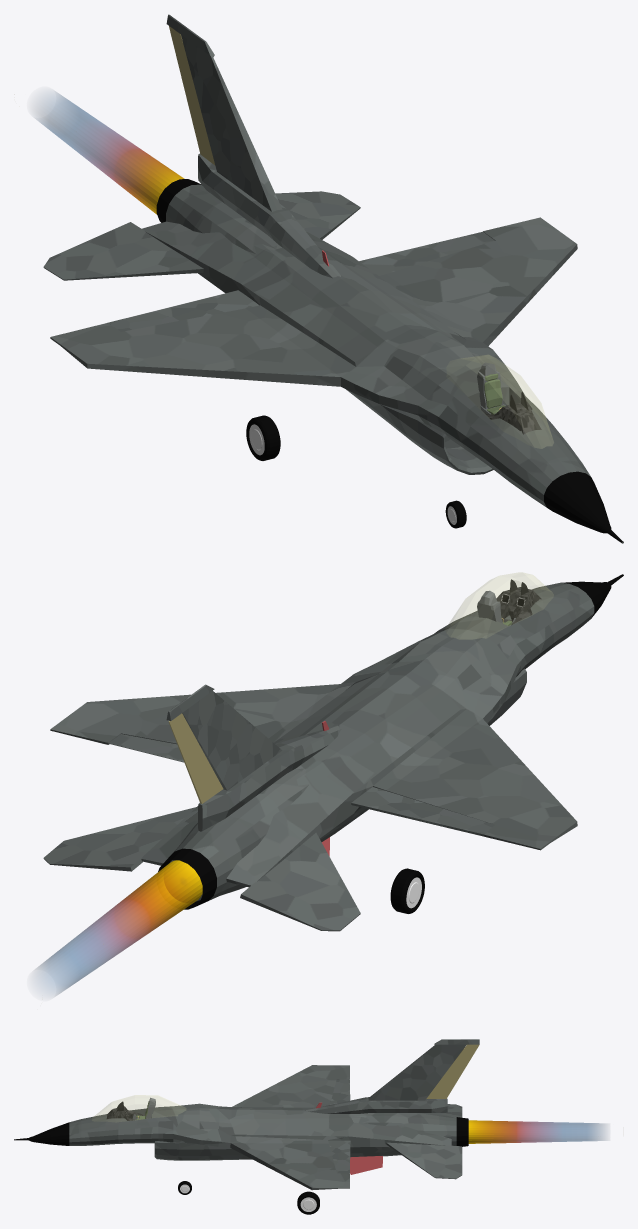
3 views of the same model, one above another, from view 1: azimuth 30°, elevation 25°; view 2: azimuth 150°, elevation 25°; view 3: azimuth 270°, elevation 25° (orthographic). The views are drawn at different scales.
Visible parts, largest first — view 1: MainFrame, rudder_frame, Engine, Afterburner, right_elevator, cabin_glass_outside, left_elevator, right_aleron, left_aleron, rudder_0, wheel-rb, Main frame; view 2: MainFrame, rudder_frame, Afterburner, Engine, right_elevator, left_elevator, right_aleron, rudder_0, cabin_glass_outside, wheel-rb, left_aleron, Main frame (+1 smaller); view 3: MainFrame, rudder_frame, Engine, Afterburner, left_elevator, cabin_glass_outside, rudder_0, left_aleron, bottom_left_aleron, wheel-lb, right_aleron, Main frame.
Boxes of the visible parts, x1,y1,x2,y2 form: MainFrame: [50, 217, 623, 543]; rudder_frame: [166, 14, 340, 278]; Engine: [156, 179, 493, 474]; Afterburner: [35, 92, 184, 214]; right_elevator: [43, 222, 203, 280]; cabin_glass_outside: [450, 355, 553, 448]; left_elevator: [275, 191, 360, 239]; right_aleron: [107, 290, 259, 331]; left_aleron: [359, 231, 494, 275]; rudder_0: [169, 26, 215, 165]; wheel-rb: [246, 415, 280, 460]; Main frame: [485, 401, 541, 434]; MainFrame: [50, 574, 623, 887]; rudder_frame: [166, 684, 341, 831]; Afterburner: [36, 860, 202, 995]; Engine: [158, 668, 526, 909]; right_elevator: [240, 832, 360, 931]; left_elevator: [43, 807, 196, 871]; right_aleron: [351, 787, 494, 836]; rudder_0: [168, 713, 223, 803]; cabin_glass_outside: [445, 572, 553, 638]; wheel-rb: [390, 868, 424, 913]; left_aleron: [107, 734, 184, 762]; Main frame: [496, 587, 541, 625]; MainFrame: [14, 1065, 451, 1190]; rudder_frame: [305, 1039, 479, 1113]; Engine: [154, 1113, 468, 1160]; Afterburner: [468, 1120, 605, 1143]; left_elevator: [386, 1142, 462, 1179]; cabin_glass_outside: [92, 1095, 184, 1121]; rudder_0: [426, 1044, 479, 1098]; left_aleron: [328, 1140, 350, 1173]; bottom_left_aleron: [350, 1156, 382, 1174]; wheel-lb: [297, 1191, 319, 1214]; right_aleron: [330, 1079, 350, 1104]; Main frame: [106, 1106, 144, 1120].
Bounding box in the file's own units: 0.6487 × 0.385 × 1.36.
67 materials, 12 textured.
